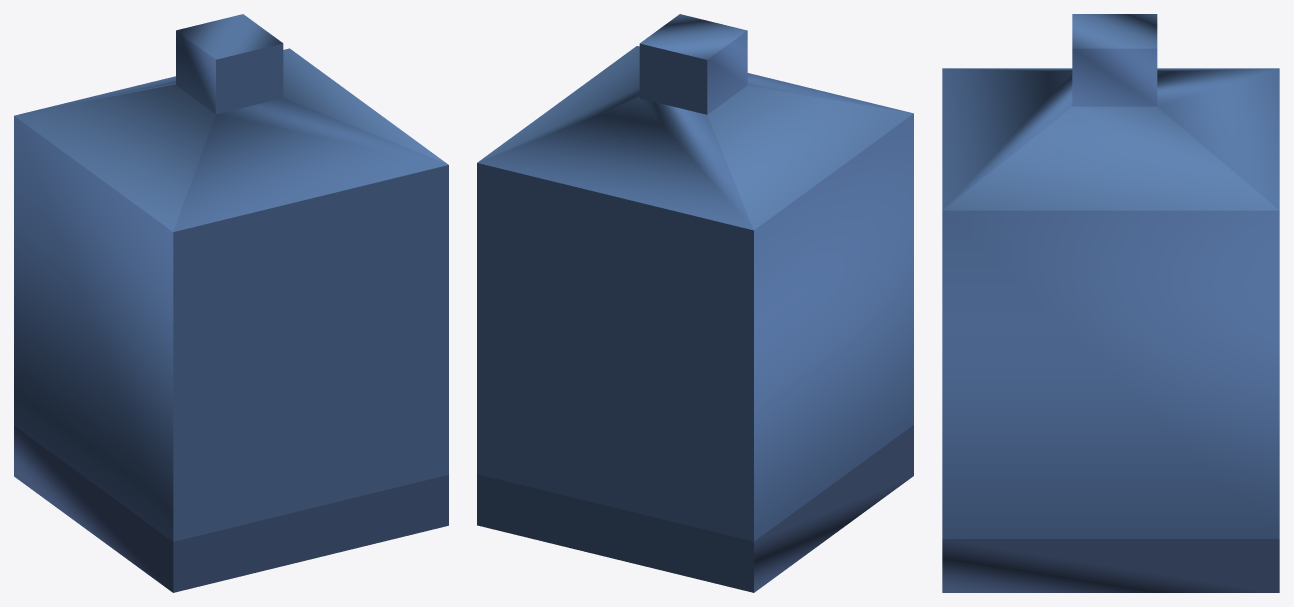
File: apoc_prop_41.glb
The picture shows the model from 3 angles, left to right: view 1: azimuth 30°, elevation 25°; view 2: azimuth 150°, elevation 25°; view 3: azimuth 270°, elevation 25°; orthographic projection. The views are drawn at different scales.
Visible parts, largest first — view 1: prop_043; view 2: prop_043; view 3: prop_043.
Boxes of the visible parts, bbox=[...] form: prop_043: bbox=[14, 14, 448, 592]; prop_043: bbox=[477, 14, 913, 592]; prop_043: bbox=[942, 14, 1279, 592].
Size of the model in its own units: 0.0613 by 0.0982 by 0.0612.
1 material, 1 textured.
